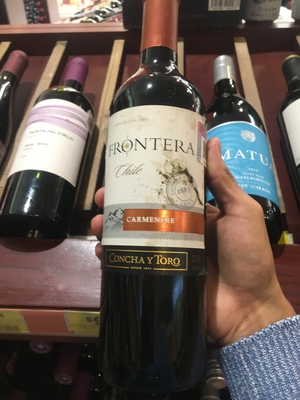frontera carmenere: (98, 5, 208, 368)
